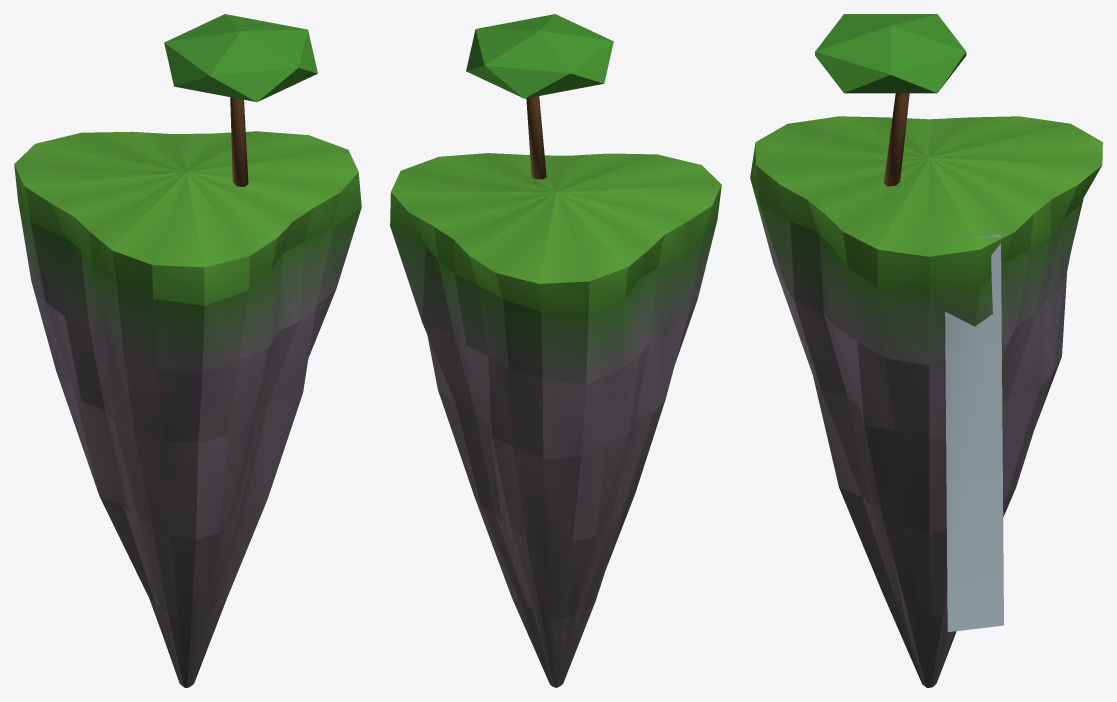
File: insulita_b.glb
3 views of the same model, side by side, from view 1: azimuth 30°, elevation 25°; view 2: azimuth 150°, elevation 25°; view 3: azimuth 270°, elevation 25° (orthographic). The views are drawn at different scales.
Visible parts, largest first — view 1: Corp; view 2: Corp; view 3: Corp.
Part boxes in pixels (x1,y1,x2,y2): Corp: (14,14,361,687); Corp: (390,14,721,687); Corp: (750,14,1102,687).
Size of the model in its own units: 2.25 by 5.05 by 2.38.
